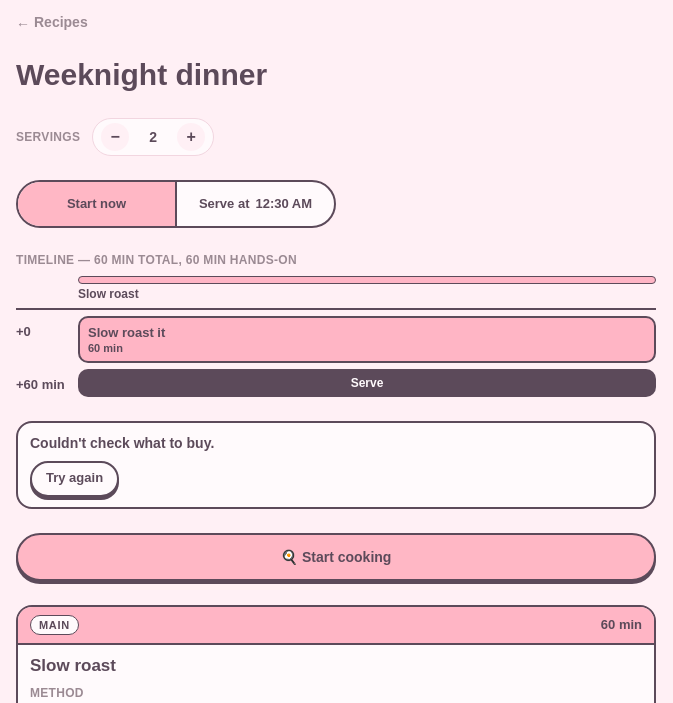
Scenario: meal screen — serve-at past midnight (issue #652 review) › rolls "Use <earliest>" over to tomorrow and clears the too-late state
Expected: the heading "Slow roast" is shown, 30,656 -> 116,674
Click the radio button labelled "Serve at" at (254, 204), box 175,182 -> 334,226
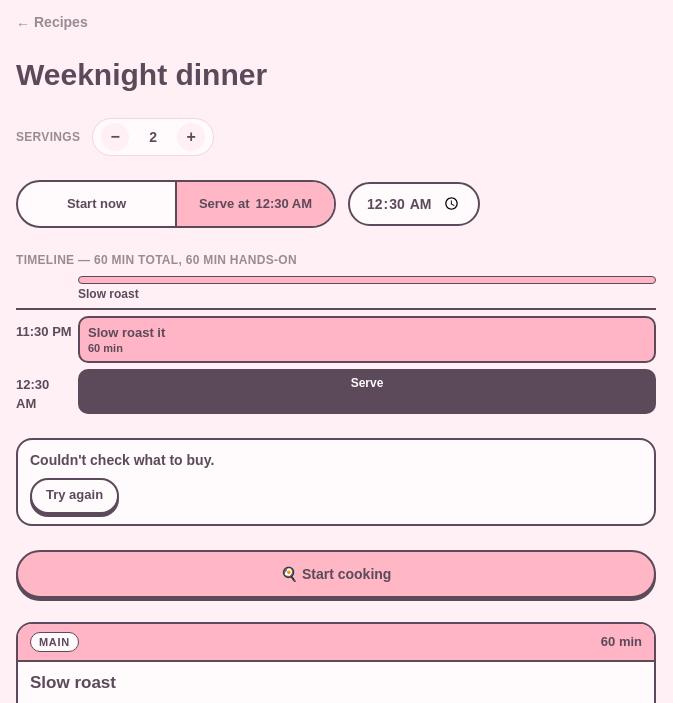
Replace the text in the time field named "Serve at time" with "23:10" at (414, 204), box 348,182 -> 480,226
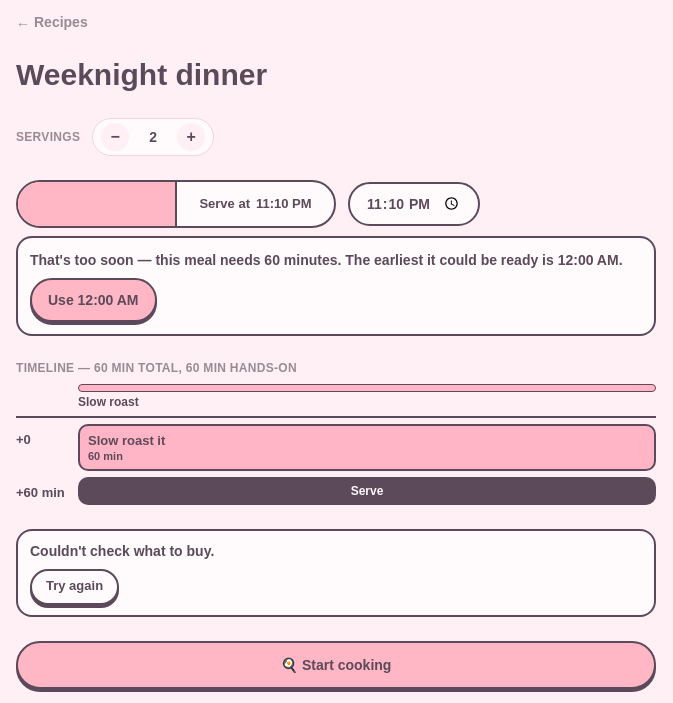
Now the message with test id "serve-at-too-late" shows "That's too soon", box 30,252 -> 622,268
Now the button "Use 12:00 AM" is shown
Click the button "Use 12:00 AM" at (93, 300), box 30,278 -> 156,322
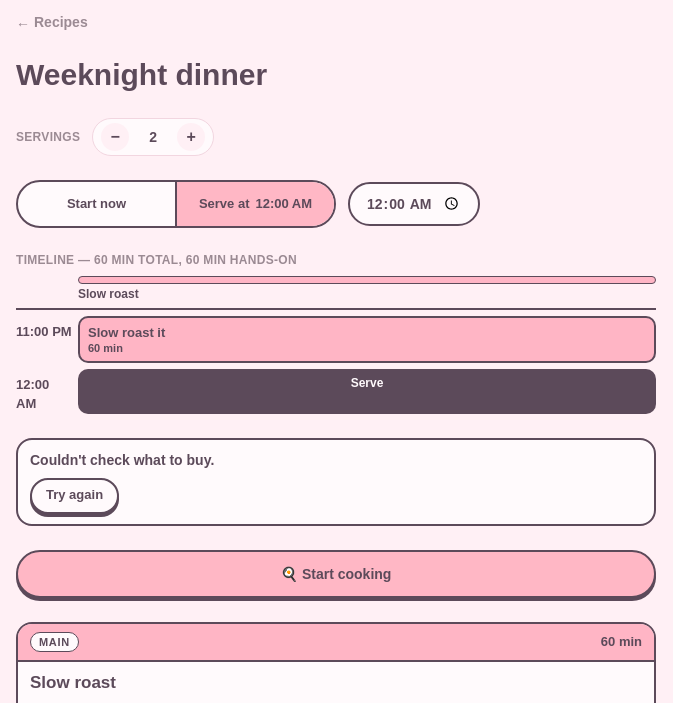
Now the message with test id "serve-at-too-late" is gone
